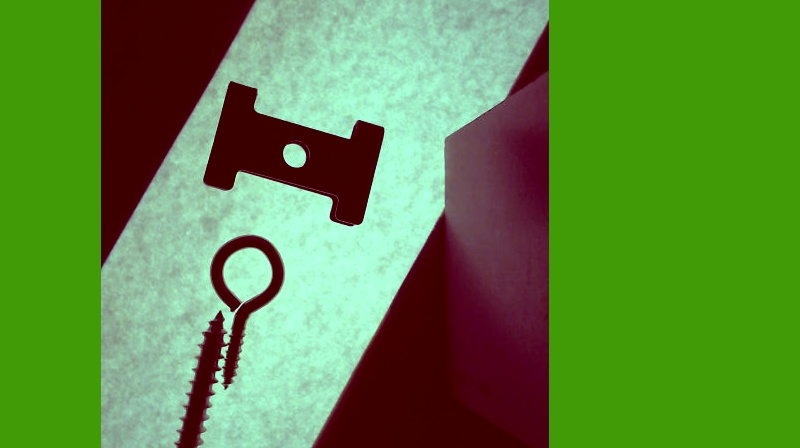O001: (209, 231, 284, 389)
O002: (201, 78, 388, 225)
S001: (152, 308, 225, 447)
